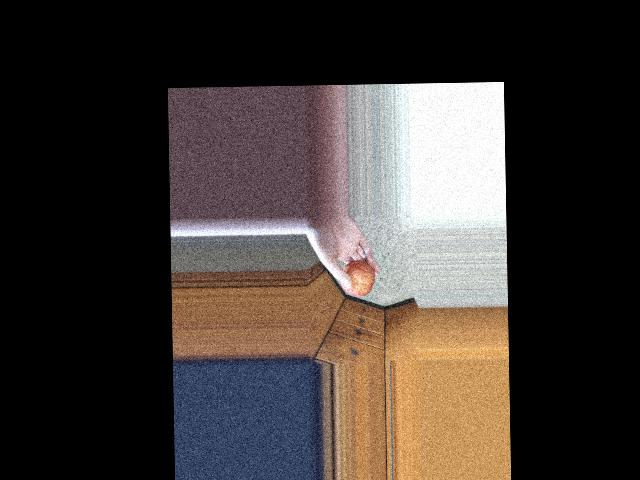apple: (335, 253, 377, 301)
